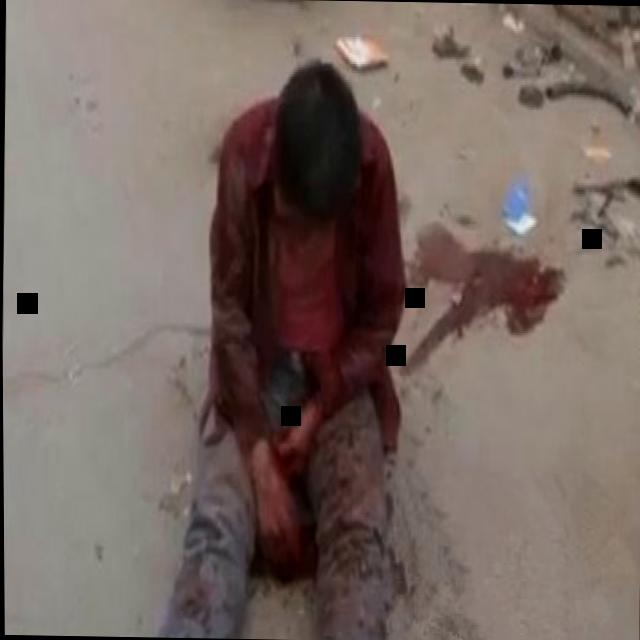Fall-Detected: (116, 48, 450, 638)
